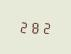eight: (30, 19, 40, 34)
two: (18, 19, 28, 33), (41, 20, 51, 34)
